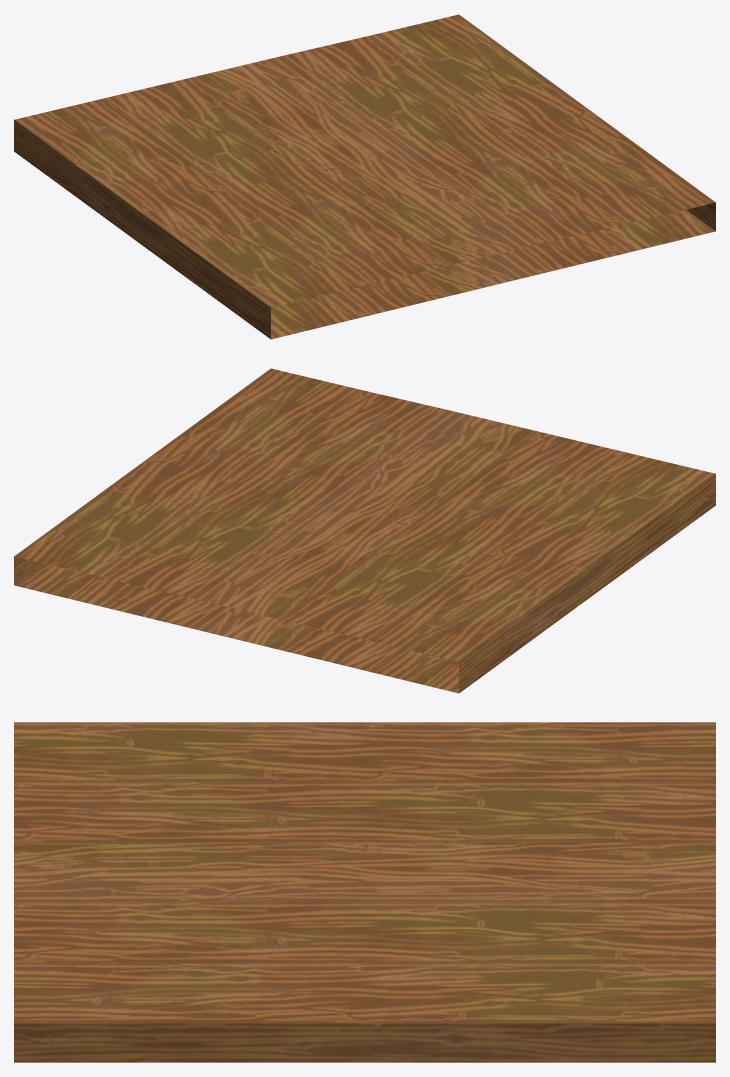
The model's file is roof-qm-roofwooden2x1middle.glb.
3 renders of one model, top to bottom at view 1: azimuth 30°, elevation 25°; view 2: azimuth 150°, elevation 25°; view 3: azimuth 270°, elevation 25°, orthographic. The views are drawn at different scales.
Parts seen in each view (by area): view 1: Cube_138; view 2: Cube_138; view 3: Cube_138.
Boxes of the visible parts, <box> form: Cube_138: <box>14,14,715,339</box>; Cube_138: <box>14,368,715,693</box>; Cube_138: <box>14,722,715,1062</box>.
Bounding box in the file's own units: 2 × 0.1379 × 2.
Materials: 1 (1 with a texture image).
